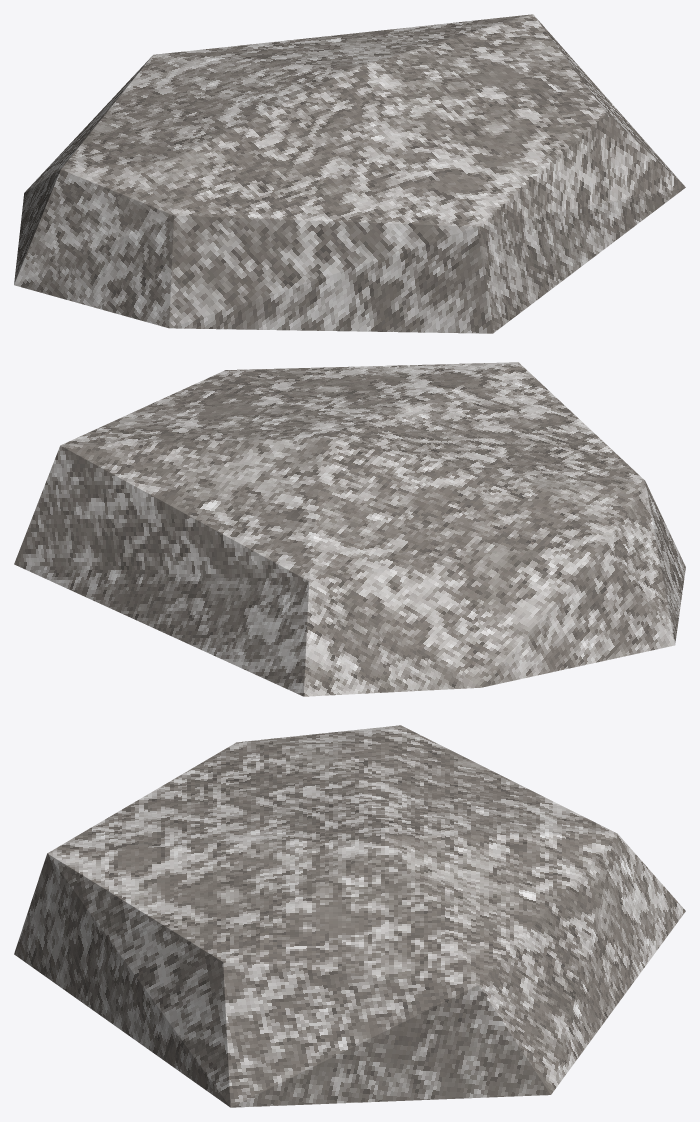
The model's file is garden_rock_3.glb.
3 renders of one model, top to bottom at view 1: azimuth 30°, elevation 25°; view 2: azimuth 150°, elevation 25°; view 3: azimuth 270°, elevation 25°, orthographic. The views are drawn at different scales.
Visible parts, largest first — view 1: garden_rock_3; view 2: garden_rock_3; view 3: garden_rock_3.
Boxes of the visible parts, box(x1,y1,x2,y2) form: garden_rock_3: box(14, 14, 685, 333); garden_rock_3: box(14, 362, 685, 696); garden_rock_3: box(14, 725, 685, 1107).
Bounding box in the file's own units: 1.42 × 0.2882 × 1.29.
1 material, 1 textured.
